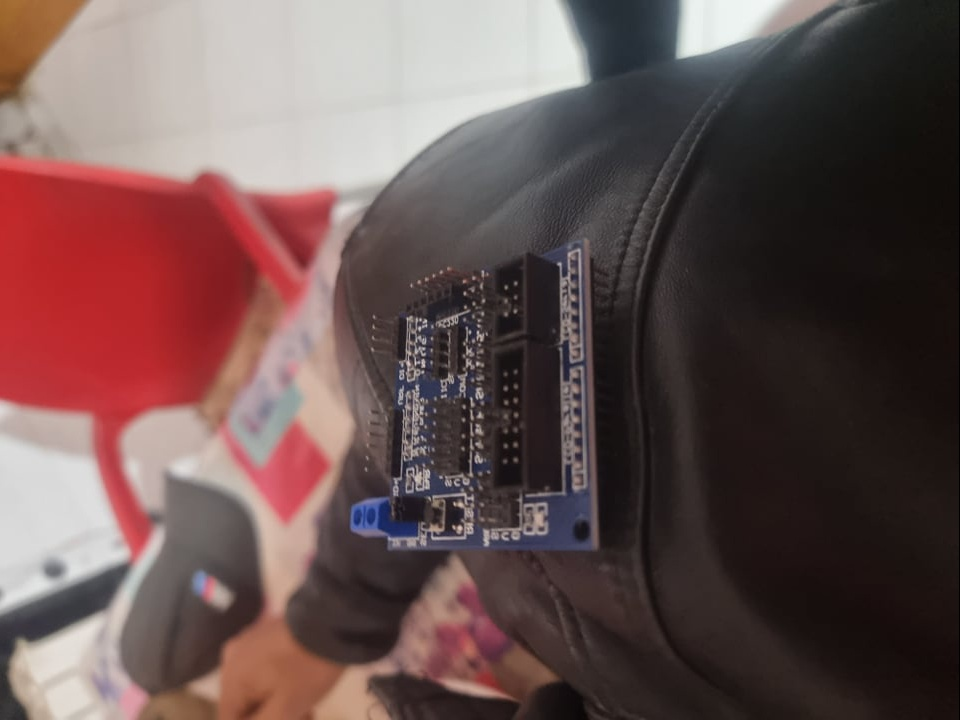5V EXPANSION: (350, 240, 601, 555)
